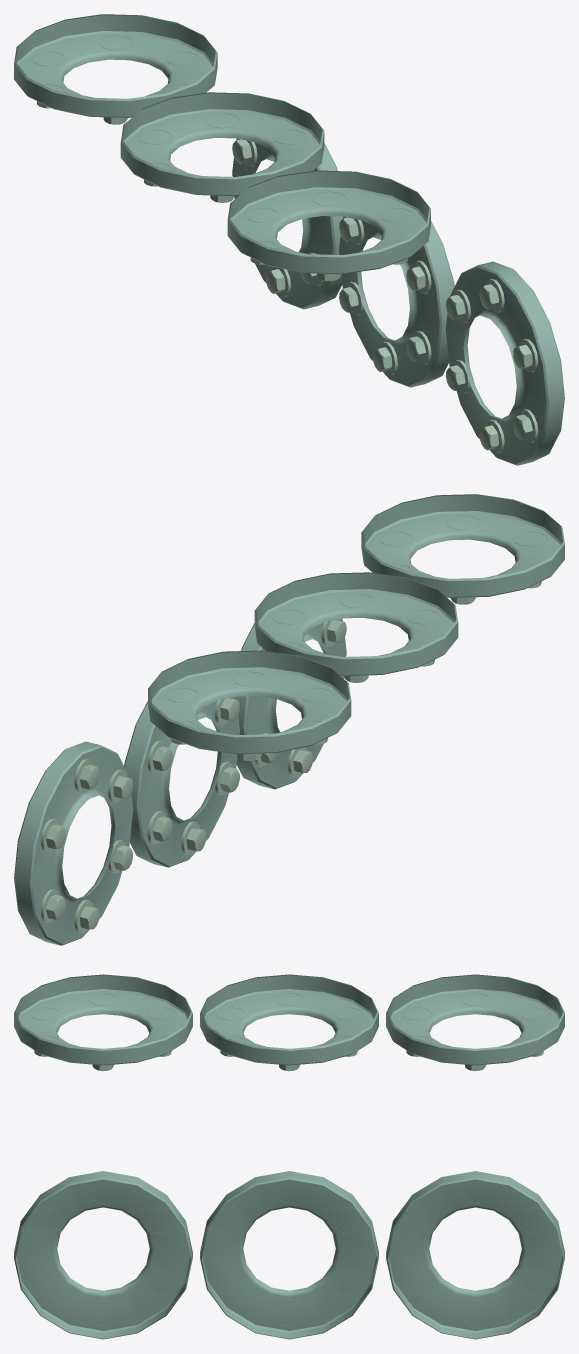
Rendered from PipeComplexLarge_A3_01_End.fbx.
3 views of the same model, one above another, from view 1: azimuth 30°, elevation 25°; view 2: azimuth 150°, elevation 25°; view 3: azimuth 270°, elevation 25° (orthographic). The views are drawn at different scales.
Visible parts, largest first — view 1: PipeComplexLarge_A3_01_End.001; view 2: PipeComplexLarge_A3_01_End.001; view 3: PipeComplexLarge_A3_01_End.001.
Part boxes in pixels (x1,y1,x2,y2): PipeComplexLarge_A3_01_End.001: (14, 14, 564, 465); PipeComplexLarge_A3_01_End.001: (14, 494, 564, 945); PipeComplexLarge_A3_01_End.001: (14, 974, 564, 1339).
Size of the model in its own units: 0.5927 by 0.5927 by 1.18.
